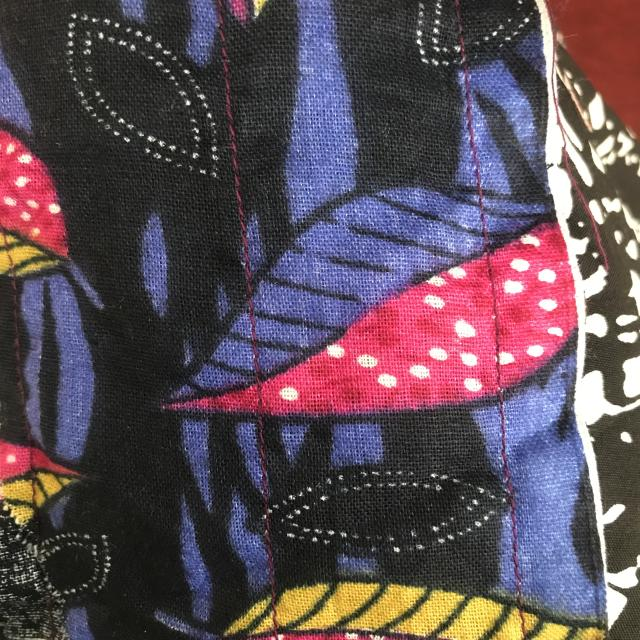good: (210, 68, 270, 265), (456, 84, 498, 233)
